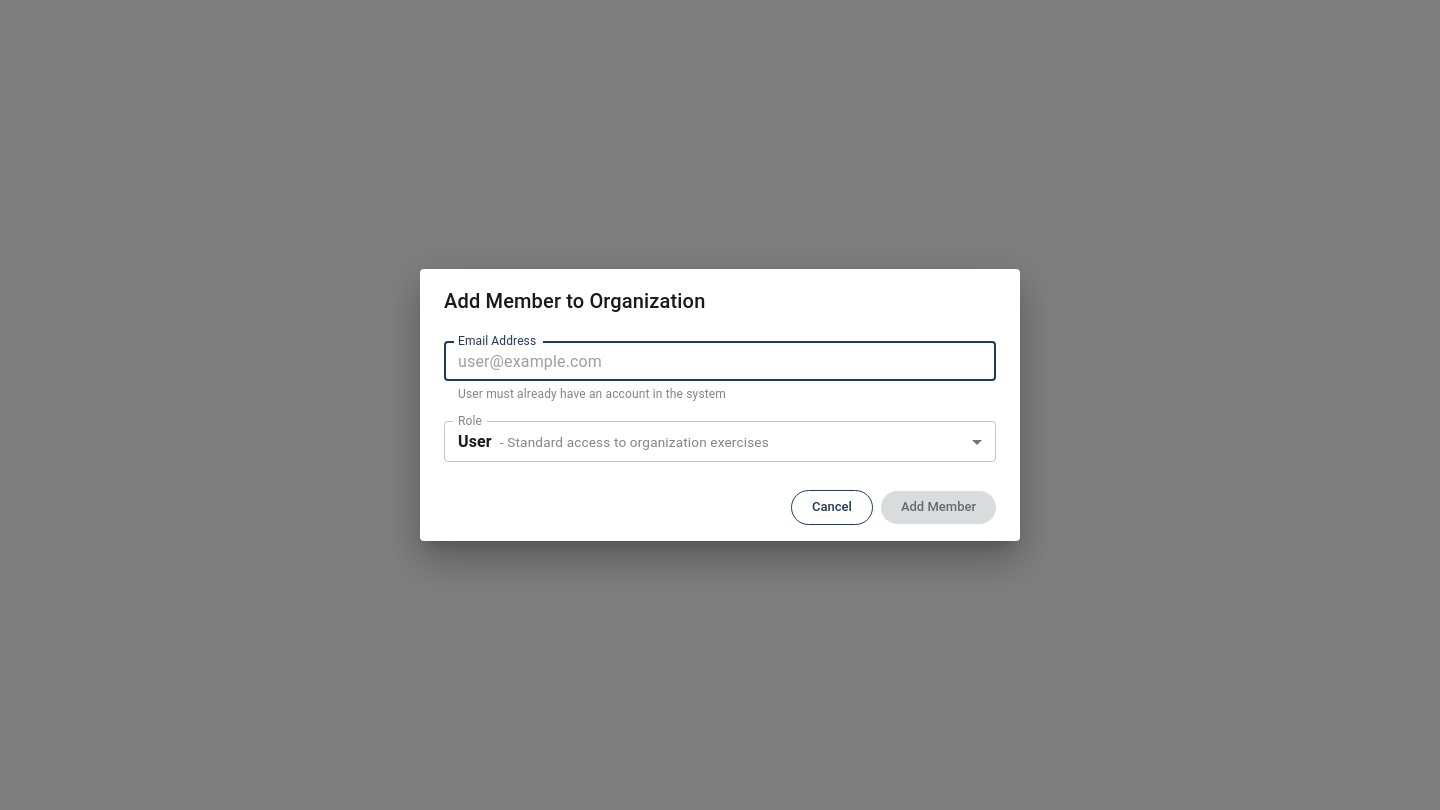
Scenario: AddMemberDialog › Rendering › displays all role options
Click the role select (use combobox role)
Click the dropdown.
click(613, 441)  # box [458,432,769,451]
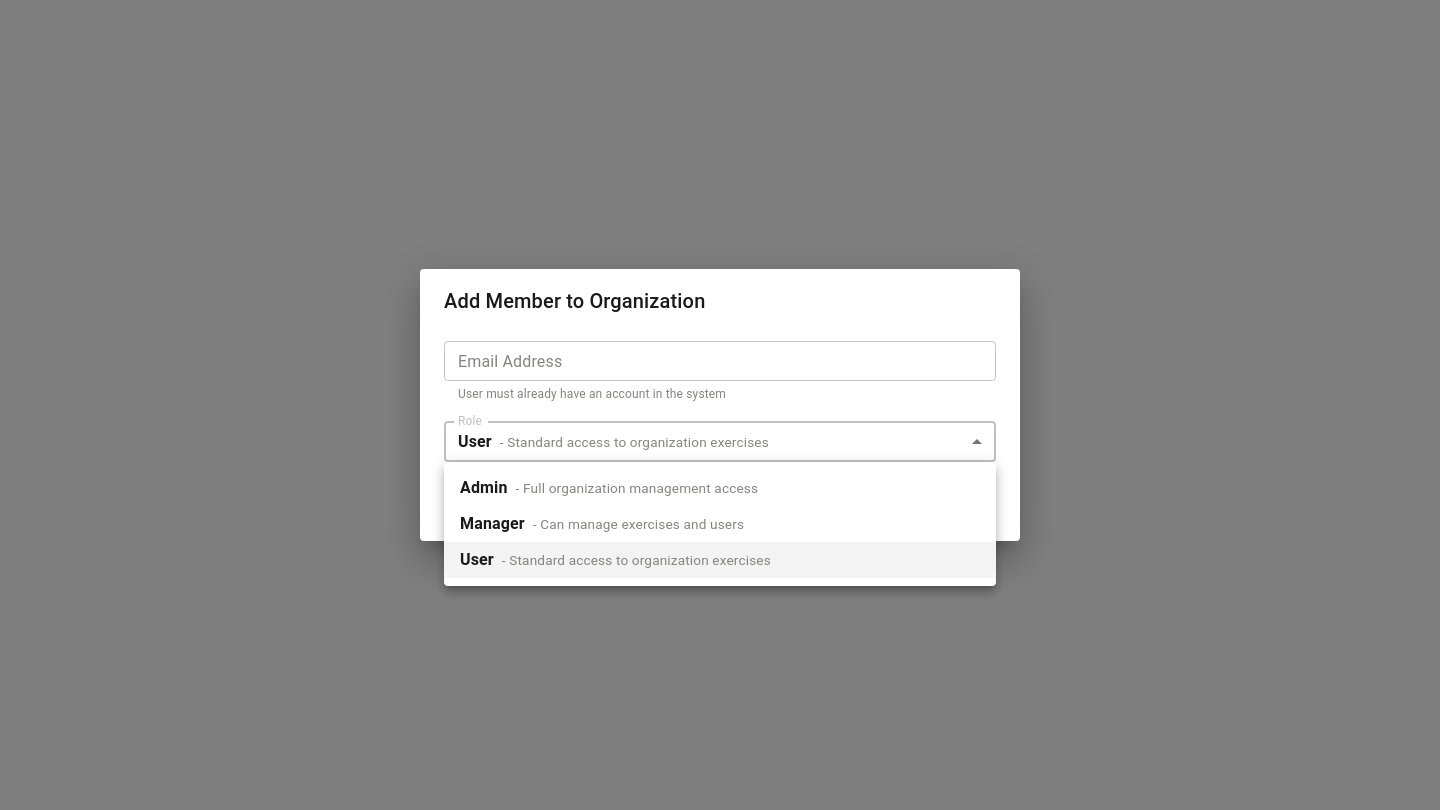
Expected: the number of options is 3, [460,478,758,497]; [460,514,744,533]; [444,542,996,578]
